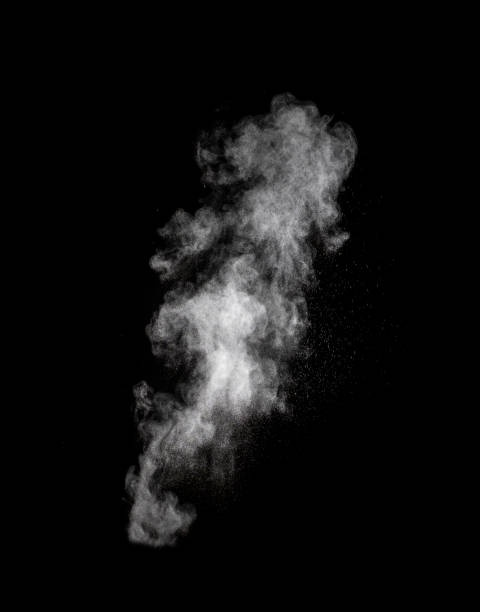smoke: (117, 89, 359, 546)
